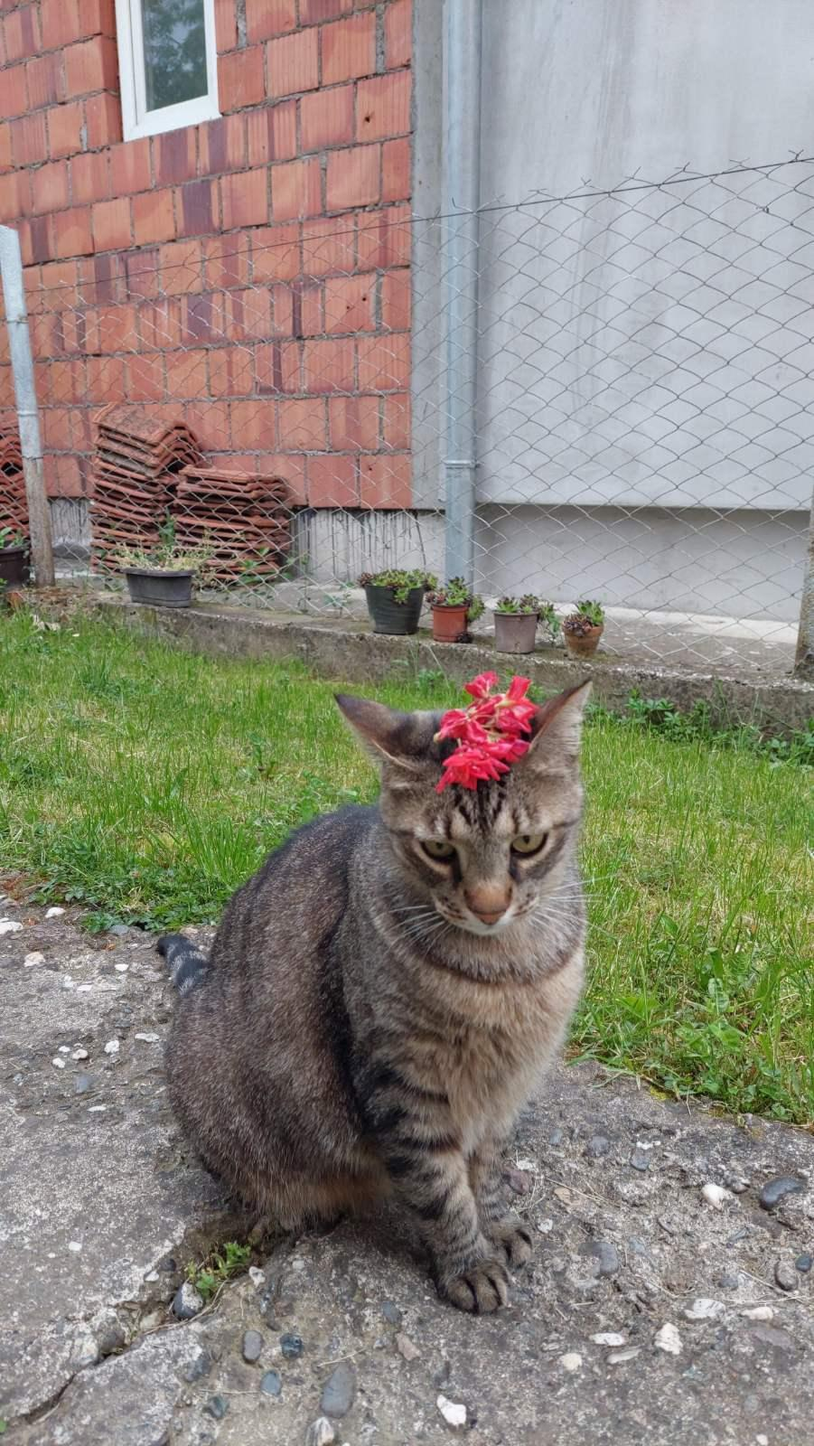macka: (157, 676, 597, 1315)
